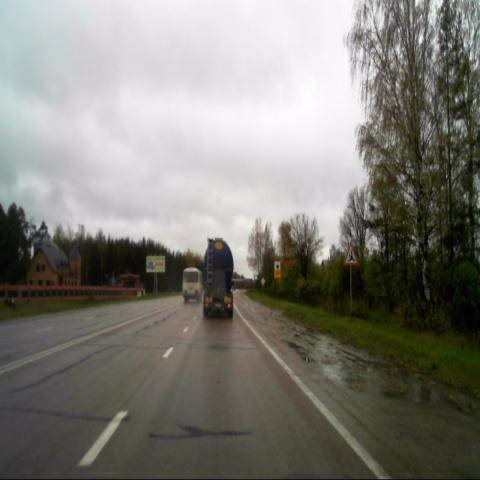1_30: (342, 239, 358, 266)
